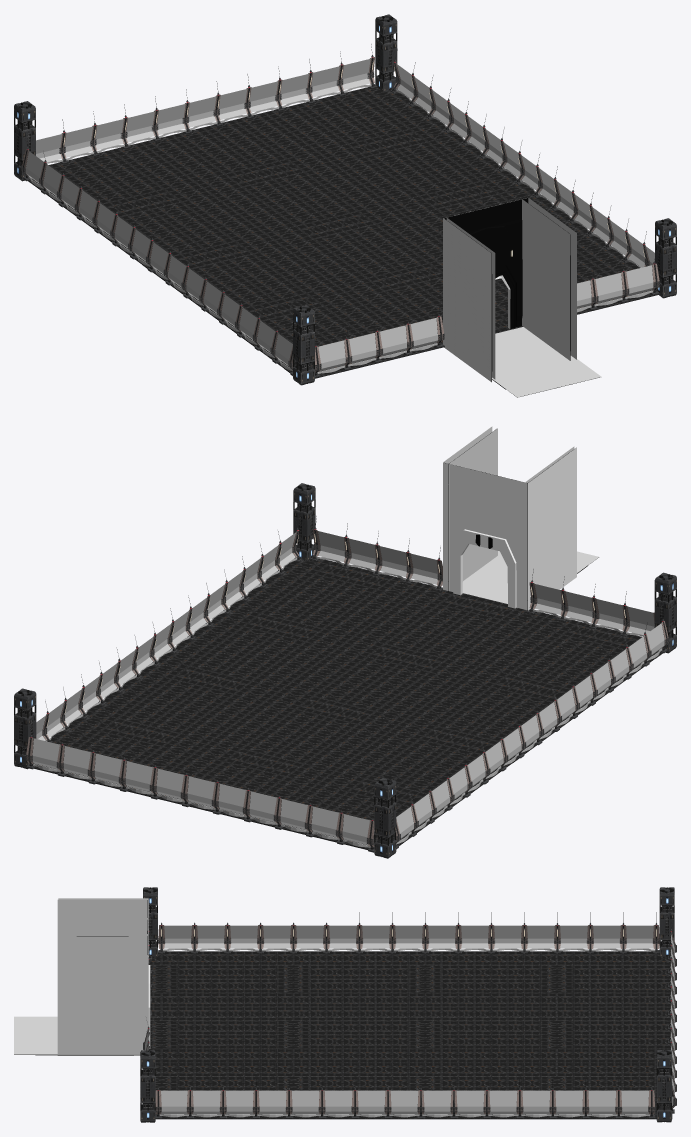
File: JsonStage (1).fbx
The picture shows the model from 3 angles, top to bottom: view 1: azimuth 30°, elevation 25°; view 2: azimuth 150°, elevation 25°; view 3: azimuth 270°, elevation 25°; orthographic projection. The views are drawn at different scales.
Visible parts, largest first — view 1: Baked_Mesh__2_, Baked_Mesh__1_, wall_1_C, wall_1_C_3, wall_1_C_2, Wall_1_Gate, Cargocase__1_, Cargocase__2_, Cargocase__1__1, Cargocase, wall_1_C_1, H2_LightWall_2__20_ (+17 smaller); view 2: Baked_Mesh__1_, Baked_Mesh__2_, Wall_1_Gate_C, wall_1_C, wall_1_C_3, wall_1_C_2, Cargocase, Cargocase__2_, Cargocase__1__1, Cargocase__1_, H2_LightWall_2__35_, H2_LightWall_2__23_ (+17 smaller); view 3: Baked_Mesh__2_, Baked_Mesh__1_, wall_1_C_1, wall_1_C_4, wall_1_C_2, Cargocase__2_, Cargocase__1__1, Cargocase, H2_LightWall_2__73_, H2_LightWall_2__72_, H2_LightWall_2__80_, H2_LightWall_2__67_ (+28 smaller).
Part boxes in pixels (x1,y1,x2,y2): Baked_Mesh__2_: (28, 87, 529, 277); Baked_Mesh__1_: (160, 186, 660, 378); wall_1_C: (443, 218, 491, 381); wall_1_C_3: (522, 199, 570, 360); wall_1_C_2: (492, 327, 601, 397); Wall_1_Gate: (444, 198, 528, 328); Cargocase__1_: (293, 305, 314, 385); Cargocase__2_: (655, 218, 676, 298); Cargocase__1__1: (375, 14, 397, 91); Cargocase: (14, 101, 35, 181); wall_1_C_1: (528, 198, 576, 359); H2_LightWall_2__20_: (188, 96, 217, 130); Baked_Mesh__1_: (159, 557, 662, 749); Baked_Mesh__2_: (15, 658, 530, 849); Wall_1_Gate_C: (443, 462, 527, 610); wall_1_C: (528, 447, 576, 610); wall_1_C_3: (449, 428, 497, 590); wall_1_C_2: (462, 551, 598, 603); Cargocase: (374, 778, 396, 858); Cargocase__2_: (293, 483, 315, 560); Cargocase__1__1: (14, 688, 36, 769); Cargocase__1_: (654, 572, 676, 653); H2_LightWall_2__35_: (94, 753, 122, 787); H2_LightWall_2__23_: (156, 768, 184, 802); Baked_Mesh__2_: (408, 951, 672, 1119); Baked_Mesh__1_: (149, 951, 408, 1119); wall_1_C_1: (57, 936, 147, 1055); wall_1_C_4: (57, 899, 147, 936); wall_1_C_2: (14, 1016, 140, 1054); Cargocase__2_: (140, 1050, 155, 1122); Cargocase__1__1: (656, 1050, 671, 1122); Cargocase: (659, 887, 674, 956); H2_LightWall_2__73_: (191, 1090, 221, 1117); H2_LightWall_2__72_: (224, 1090, 254, 1117); H2_LightWall_2__80_: (587, 1090, 617, 1117); H2_LightWall_2__67_: (389, 1090, 419, 1117).
Bounding box in the file's own units: 12197 × 4044 × 20100.
